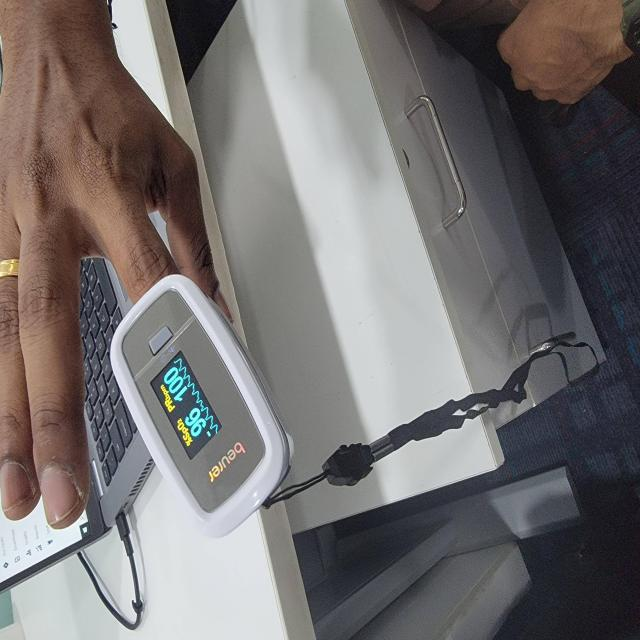spo2: (110, 276, 293, 541)
